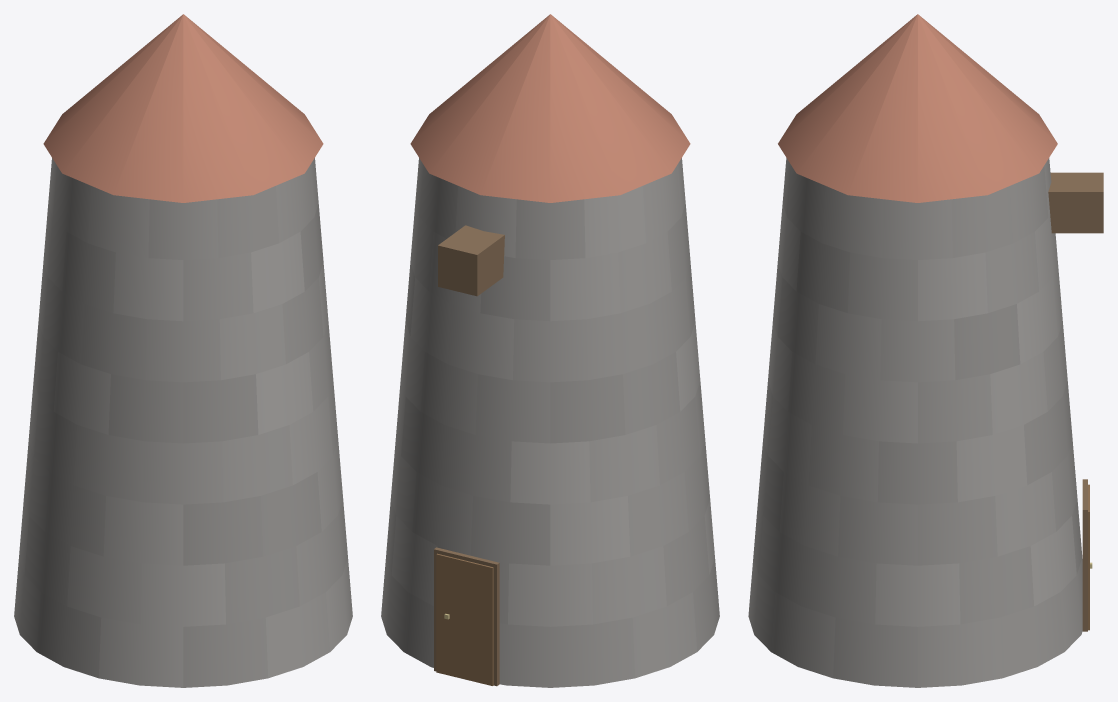
Rendered from windmill.glb.
3 renders of one model, left to right at view 1: azimuth 30°, elevation 25°; view 2: azimuth 150°, elevation 25°; view 3: azimuth 270°, elevation 25°, orthographic.
Parts seen in each view (by area): view 1: windmill; view 2: windmill; view 3: windmill.
Boxes of the visible parts, bbox=[...] form: windmill: bbox=[14, 14, 352, 687]; windmill: bbox=[381, 14, 719, 687]; windmill: bbox=[748, 14, 1103, 687].
Size of the model in its own units: 5.2 by 10.2 by 5.45.
